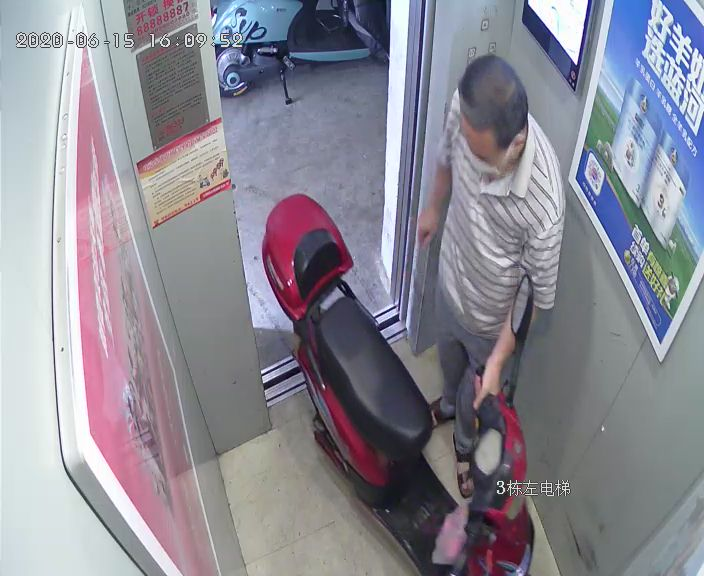Electric-bicycle: (259, 195, 535, 576), (213, 1, 387, 100)
